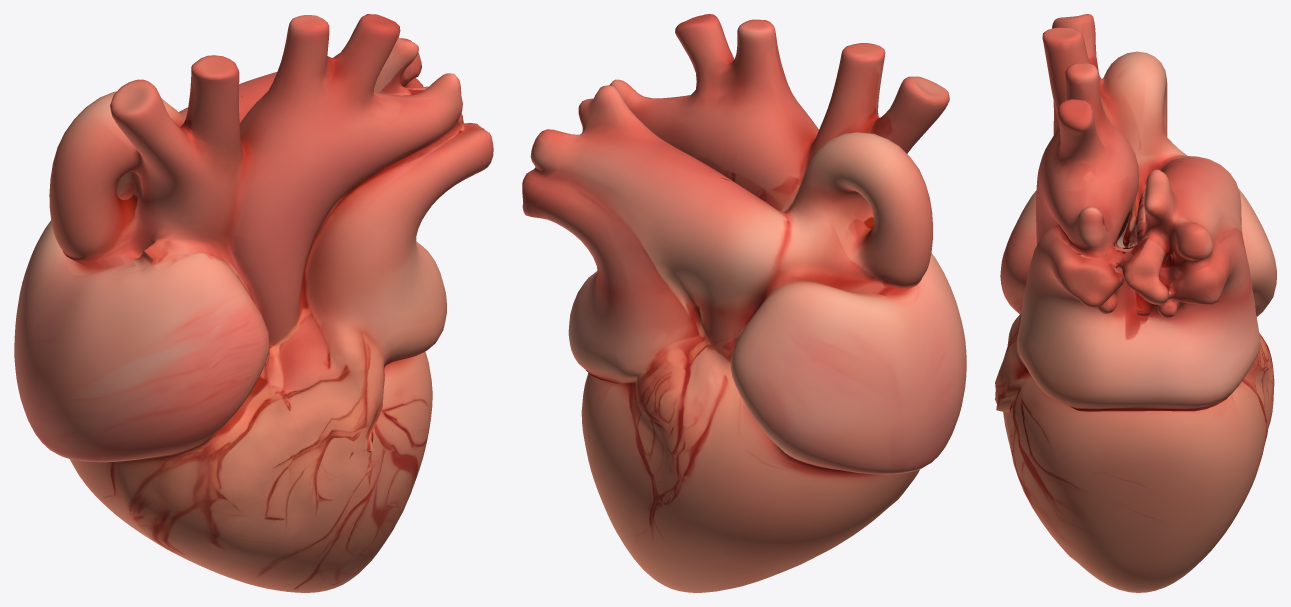
Rendered from updated_arterias.obj.
The picture shows the model from 3 angles, left to right: view 1: azimuth 30°, elevation 25°; view 2: azimuth 150°, elevation 25°; view 3: azimuth 270°, elevation 25°; orthographic projection. The views are drawn at different scales.
Parts seen in each view (by area): view 1: remeshed; view 2: remeshed; view 3: remeshed.
Part boxes in pixels (x1=…): remeshed: x1=14, y1=14, x2=493, y2=592; remeshed: x1=522, y1=14, x2=966, y2=592; remeshed: x1=995, y1=14, x2=1276, y2=592.
Size of the model in its own units: 1.21 by 1.58 by 0.7997.
Materials: 1 (1 with a texture image).
